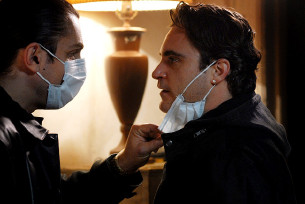face: (151, 27, 213, 112)
face_mask: (24, 21, 86, 110)
